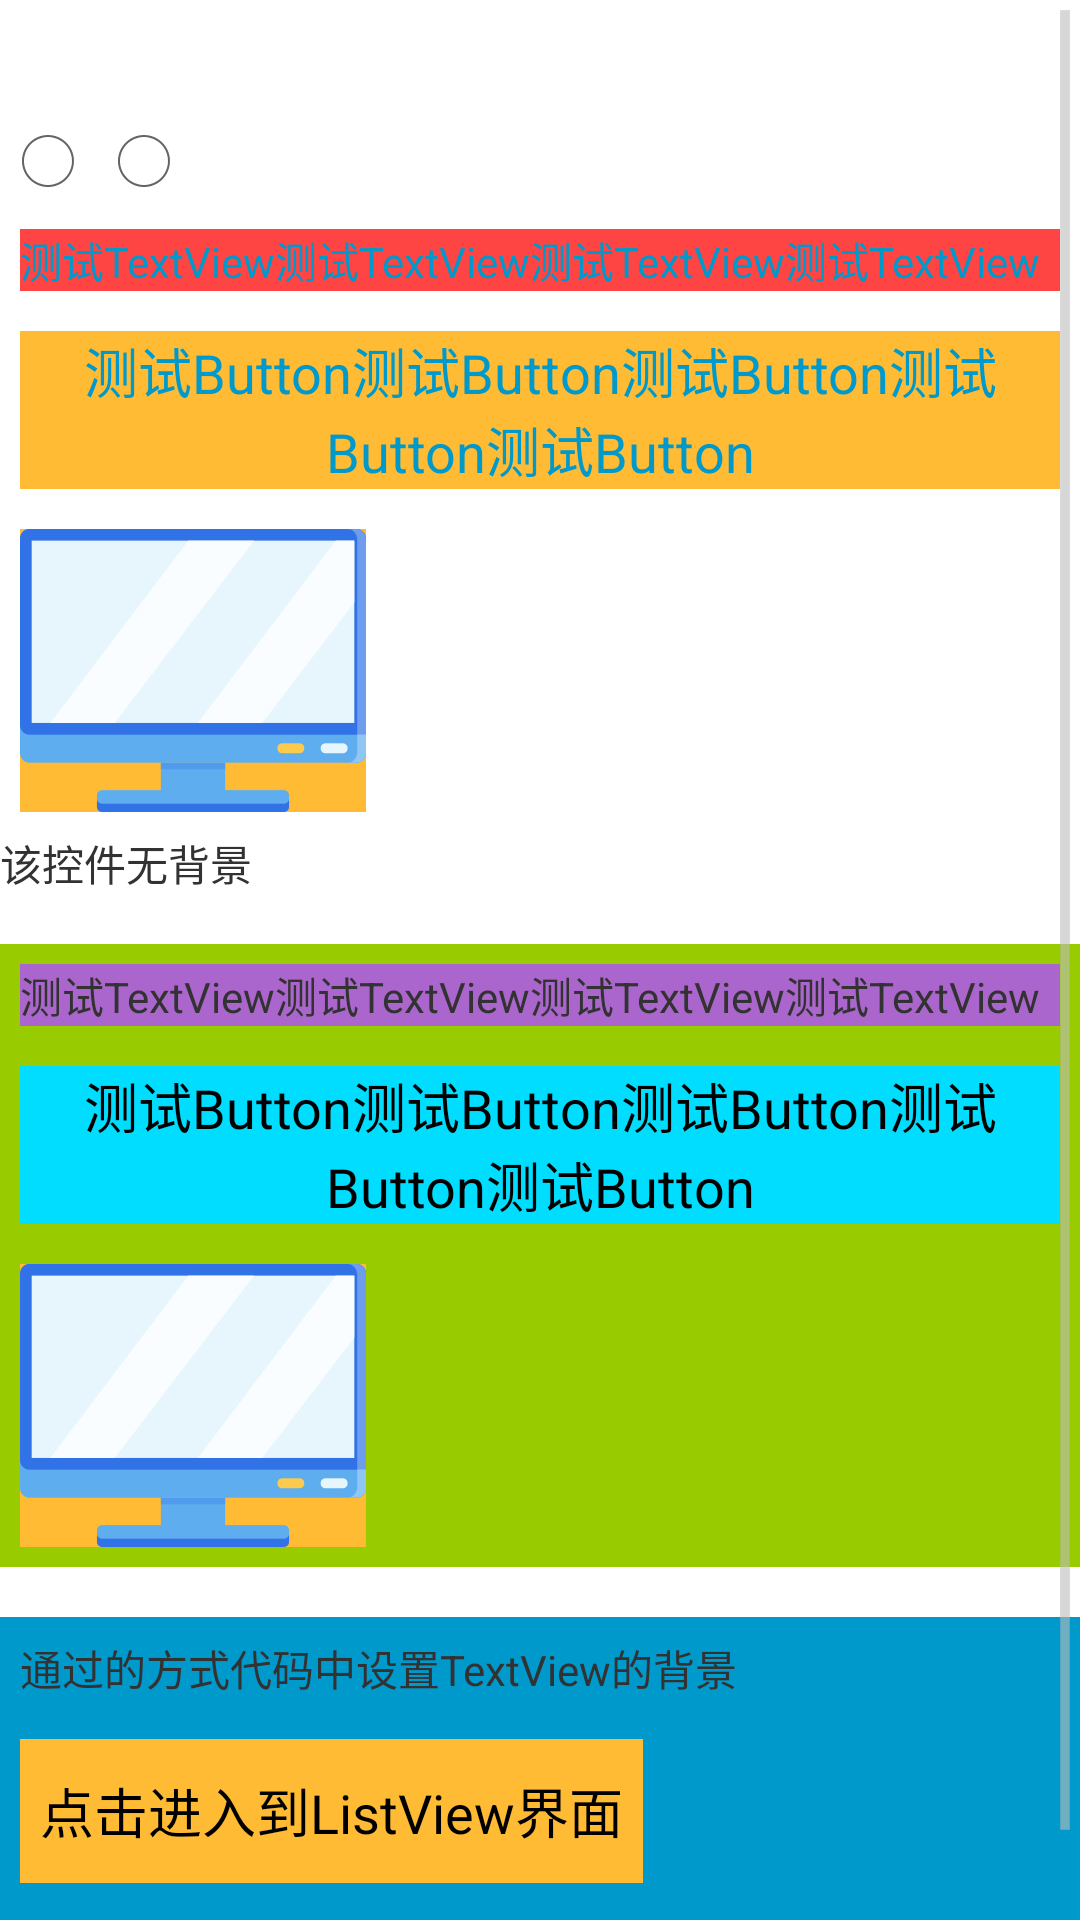

Point at icon controls on the screen. Image size 1080px×1920px, points as [x,y].
computer: [193,670], [193,1405]
